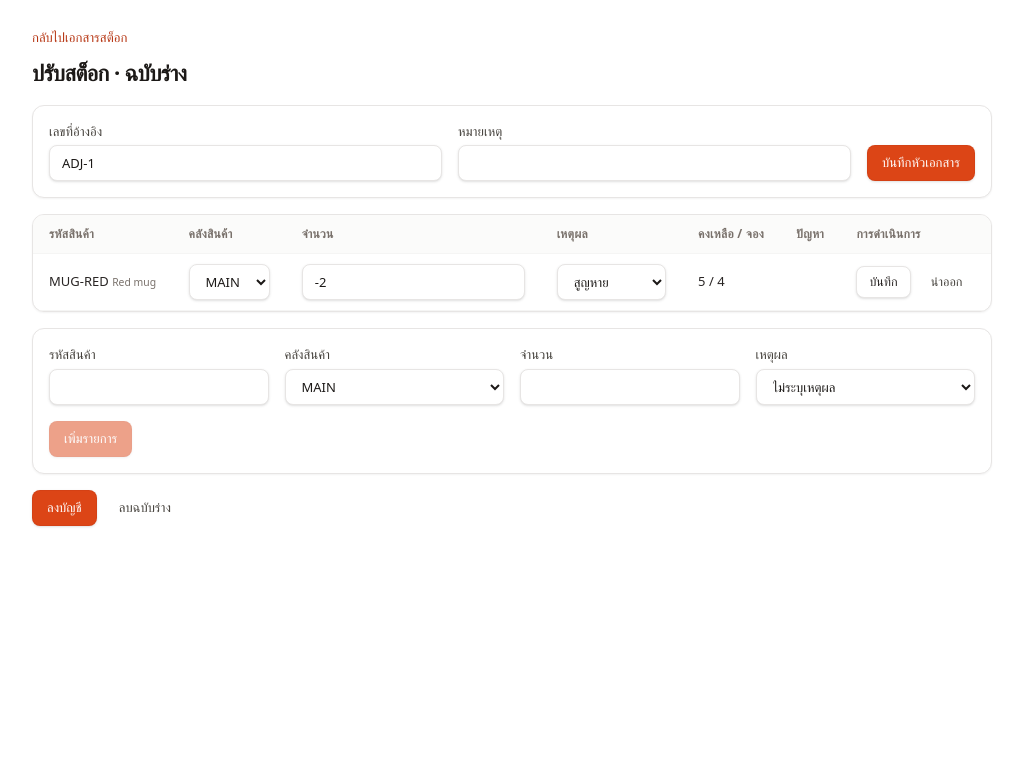
it: StockDocumentPage › adds a line by SKU code and shows BELOW_RESERVED on the line that caused it
The image size is (1024, 768).
Expected: the heading "ปรับสต็อก · ฉบับร่าง" is shown, top-left (32, 56), bottom-right (186, 88)
Add a line: the body carries the code, warehouse, qty, and reason.
Type "MUG-RED" into the field labelled "รหัสสินค้า" at point(159, 386), box top-left (49, 368), bottom-right (268, 404)
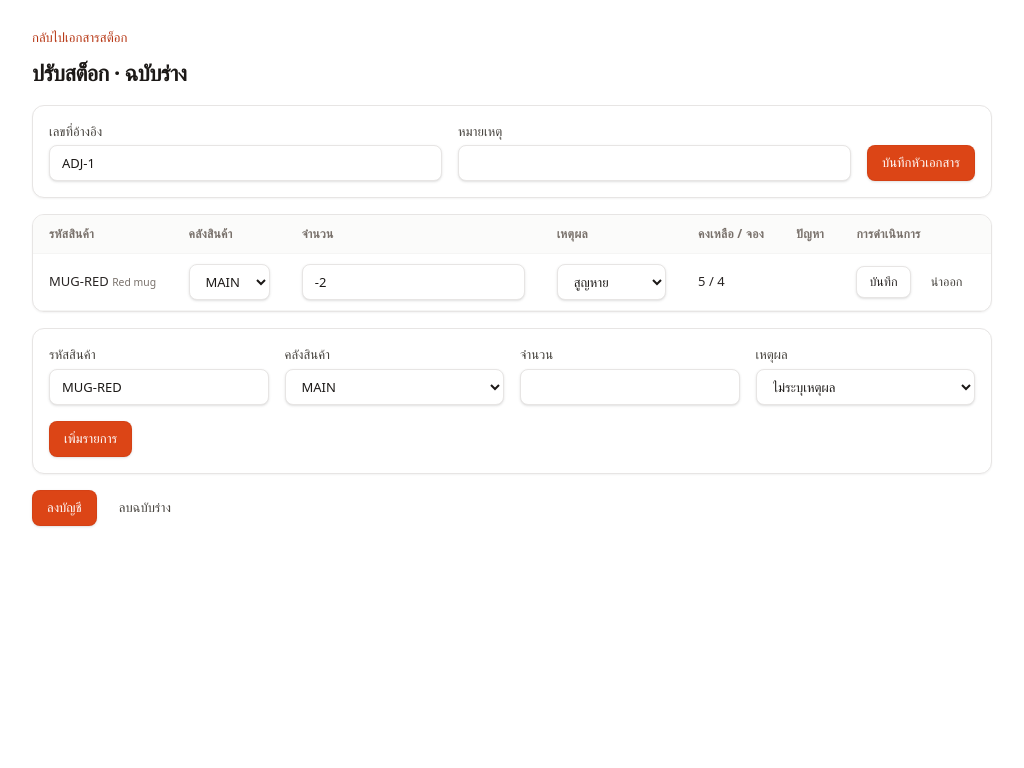
Type "3" into the field labelled "จำนวน" at point(630, 386), box top-left (520, 368), bottom-right (740, 404)
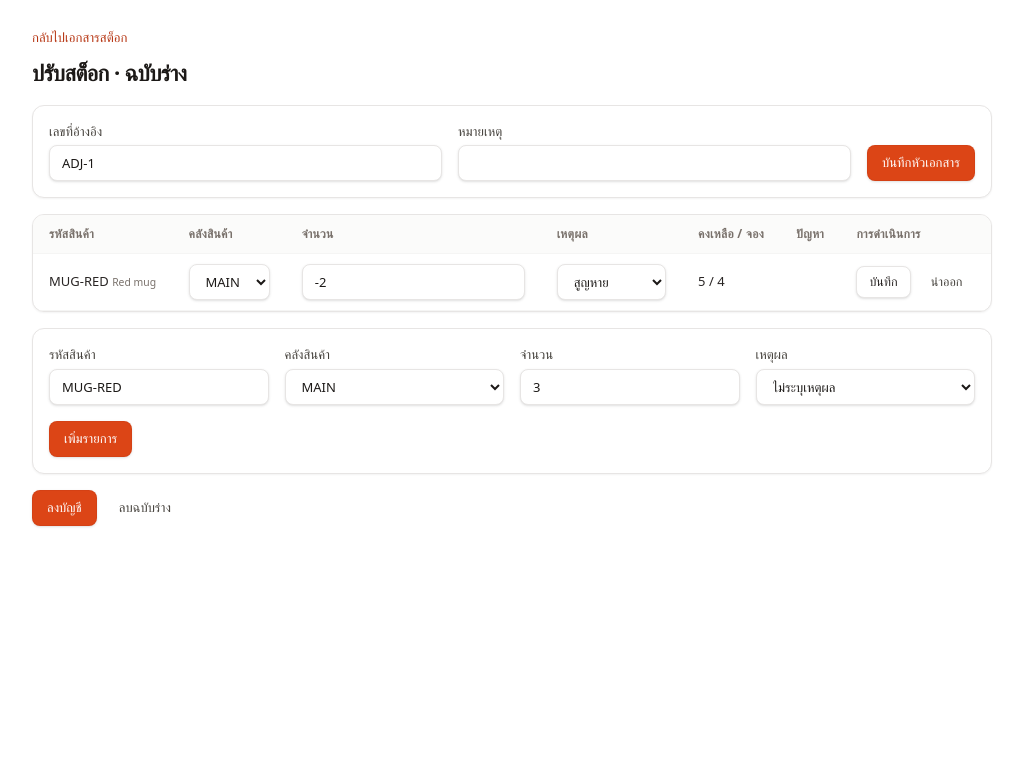
Select "พบสินค้า" in the dropdown labelled "เหตุผล" at point(865, 386), box top-left (756, 368), bottom-right (975, 404)
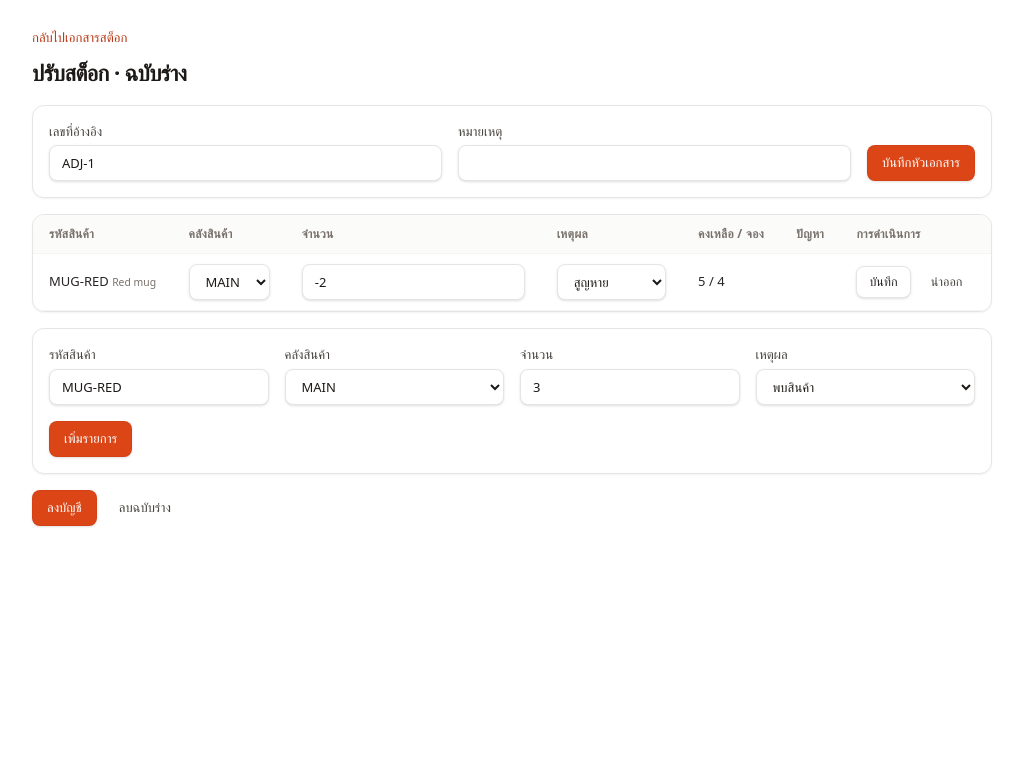
Click the button "เพิ่มรายการ" at point(91, 438), box top-left (49, 420), bottom-right (132, 456)
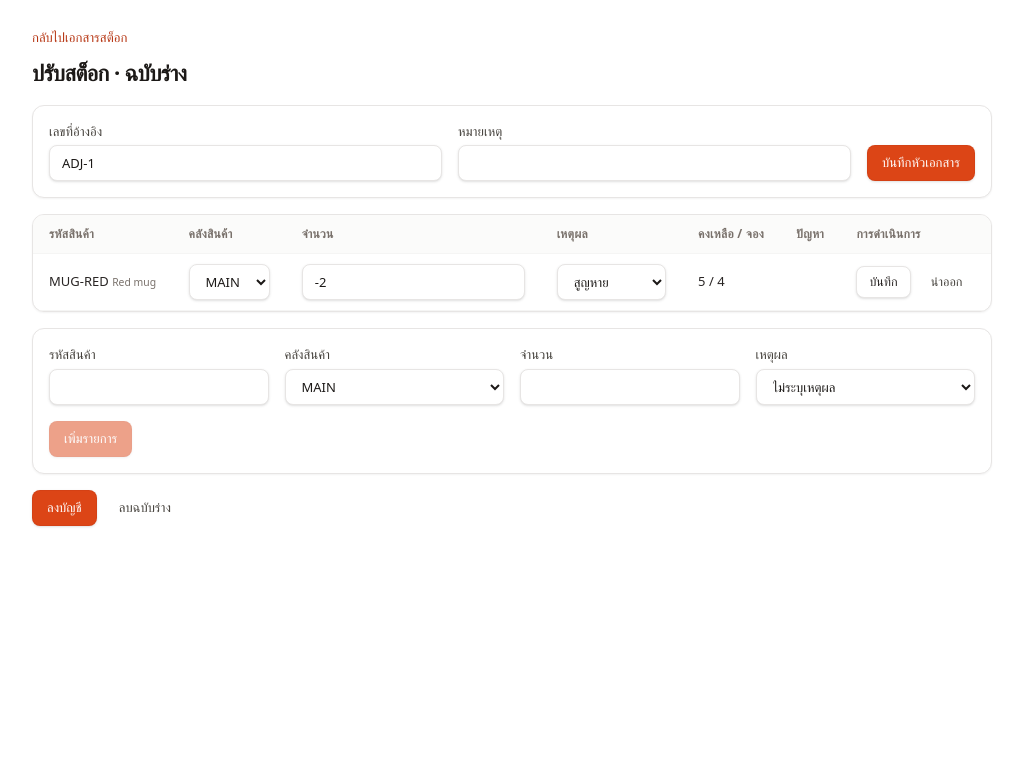
Click the button "ลงบัญชี" at point(64, 508), box top-left (32, 490), bottom-right (97, 526)
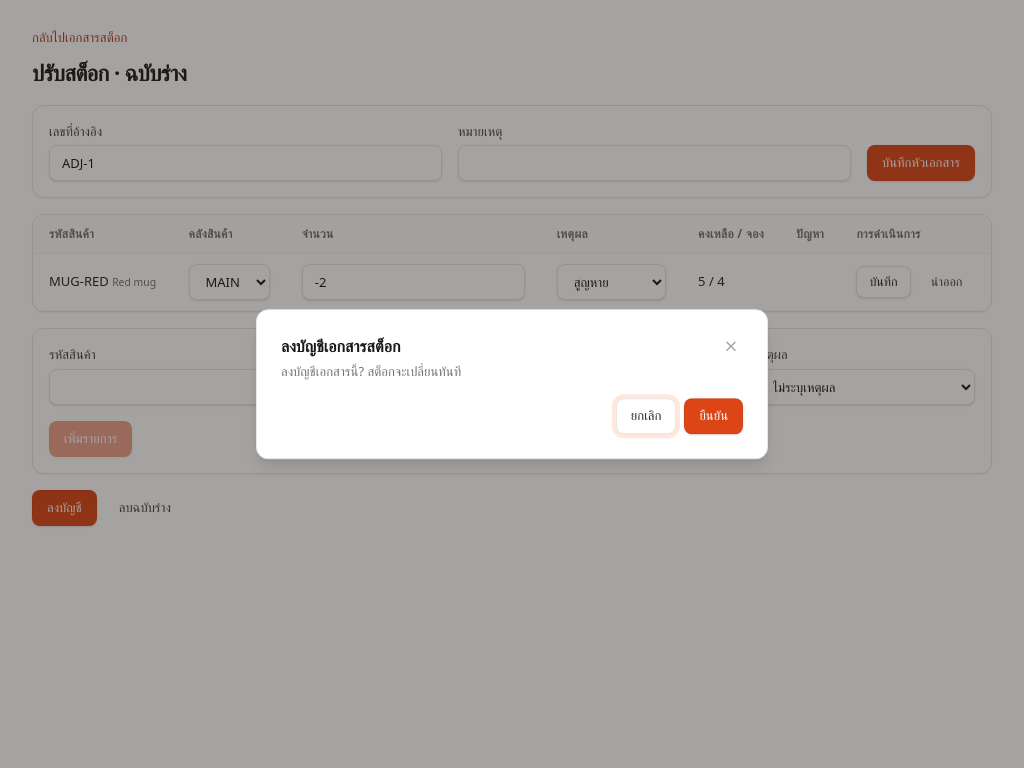
Click the button "ยืนยัน" at point(714, 416), box top-left (684, 398), bottom-right (743, 434)
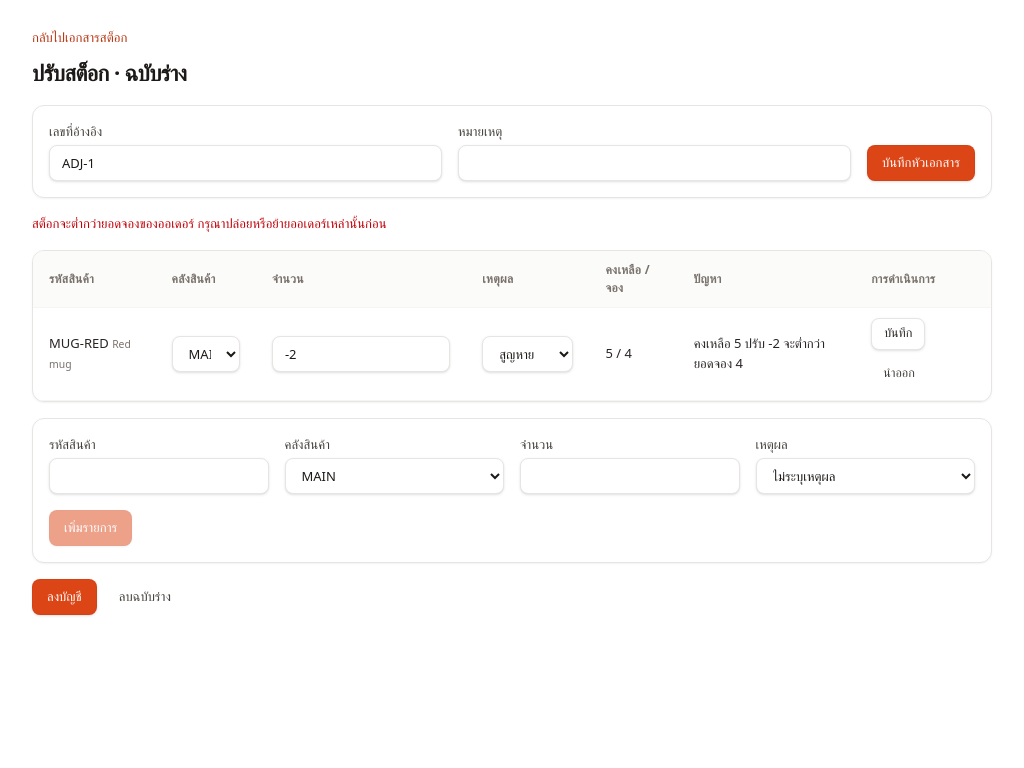
Result: the message "คงเหลือ 5 ปรับ -2 จะต่ำกว่ายอดจอง 4" is shown at top-left (694, 334), bottom-right (825, 372)
